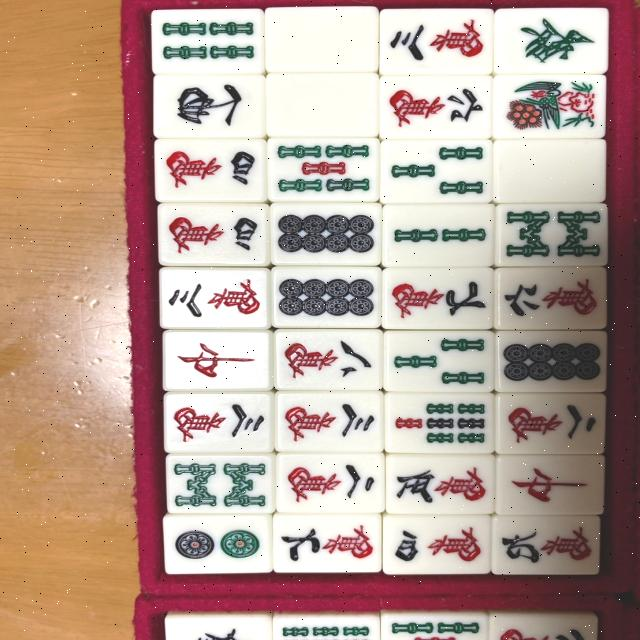bamboos_1: (491, 72, 607, 142)
bamboos_2: (380, 202, 496, 268)
bamboos_3: (381, 329, 495, 395), (380, 140, 494, 204)
bamboos_4: (152, 7, 264, 74)
bamboos_5: (266, 137, 380, 204)
bamboos_7: (382, 390, 494, 453)
bamboos_8: (496, 204, 606, 267), (166, 452, 276, 514)
characters_2: (494, 392, 607, 455), (275, 452, 386, 516)
characters_3: (377, 10, 492, 74), (164, 391, 277, 454), (162, 266, 274, 328), (275, 390, 386, 452)
characters_4: (157, 201, 271, 266), (155, 140, 270, 203), (384, 514, 496, 573)
characters_5: (384, 453, 496, 516)
characters_6: (380, 73, 496, 140), (492, 264, 608, 330)
characters_7: (381, 267, 496, 330), (271, 514, 385, 574)
characters_8: (274, 328, 384, 391)
characters_9: (491, 515, 600, 575)
circles_2: (165, 514, 276, 574)
circles_8: (268, 264, 386, 330), (270, 200, 380, 266), (495, 329, 605, 393)
green: (492, 8, 610, 75)
red: (161, 329, 275, 391), (496, 452, 604, 515)
west: (153, 74, 269, 140)
white: (262, 7, 379, 74), (491, 140, 609, 204), (266, 72, 380, 138)
